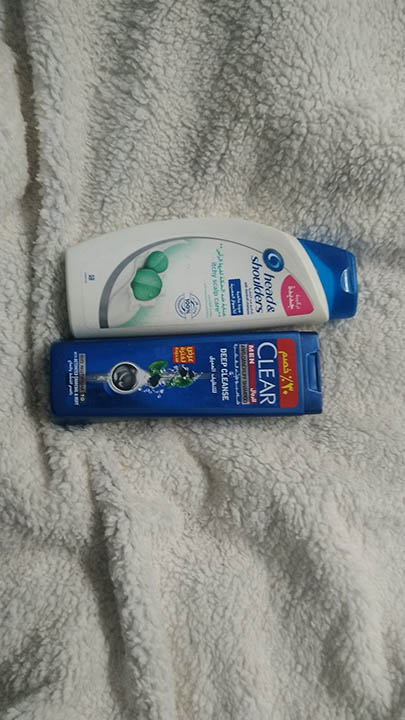Shampoo-Clear 4.7$: (33, 332, 331, 416)
shampoo-green 4.5$: (64, 222, 378, 333)
